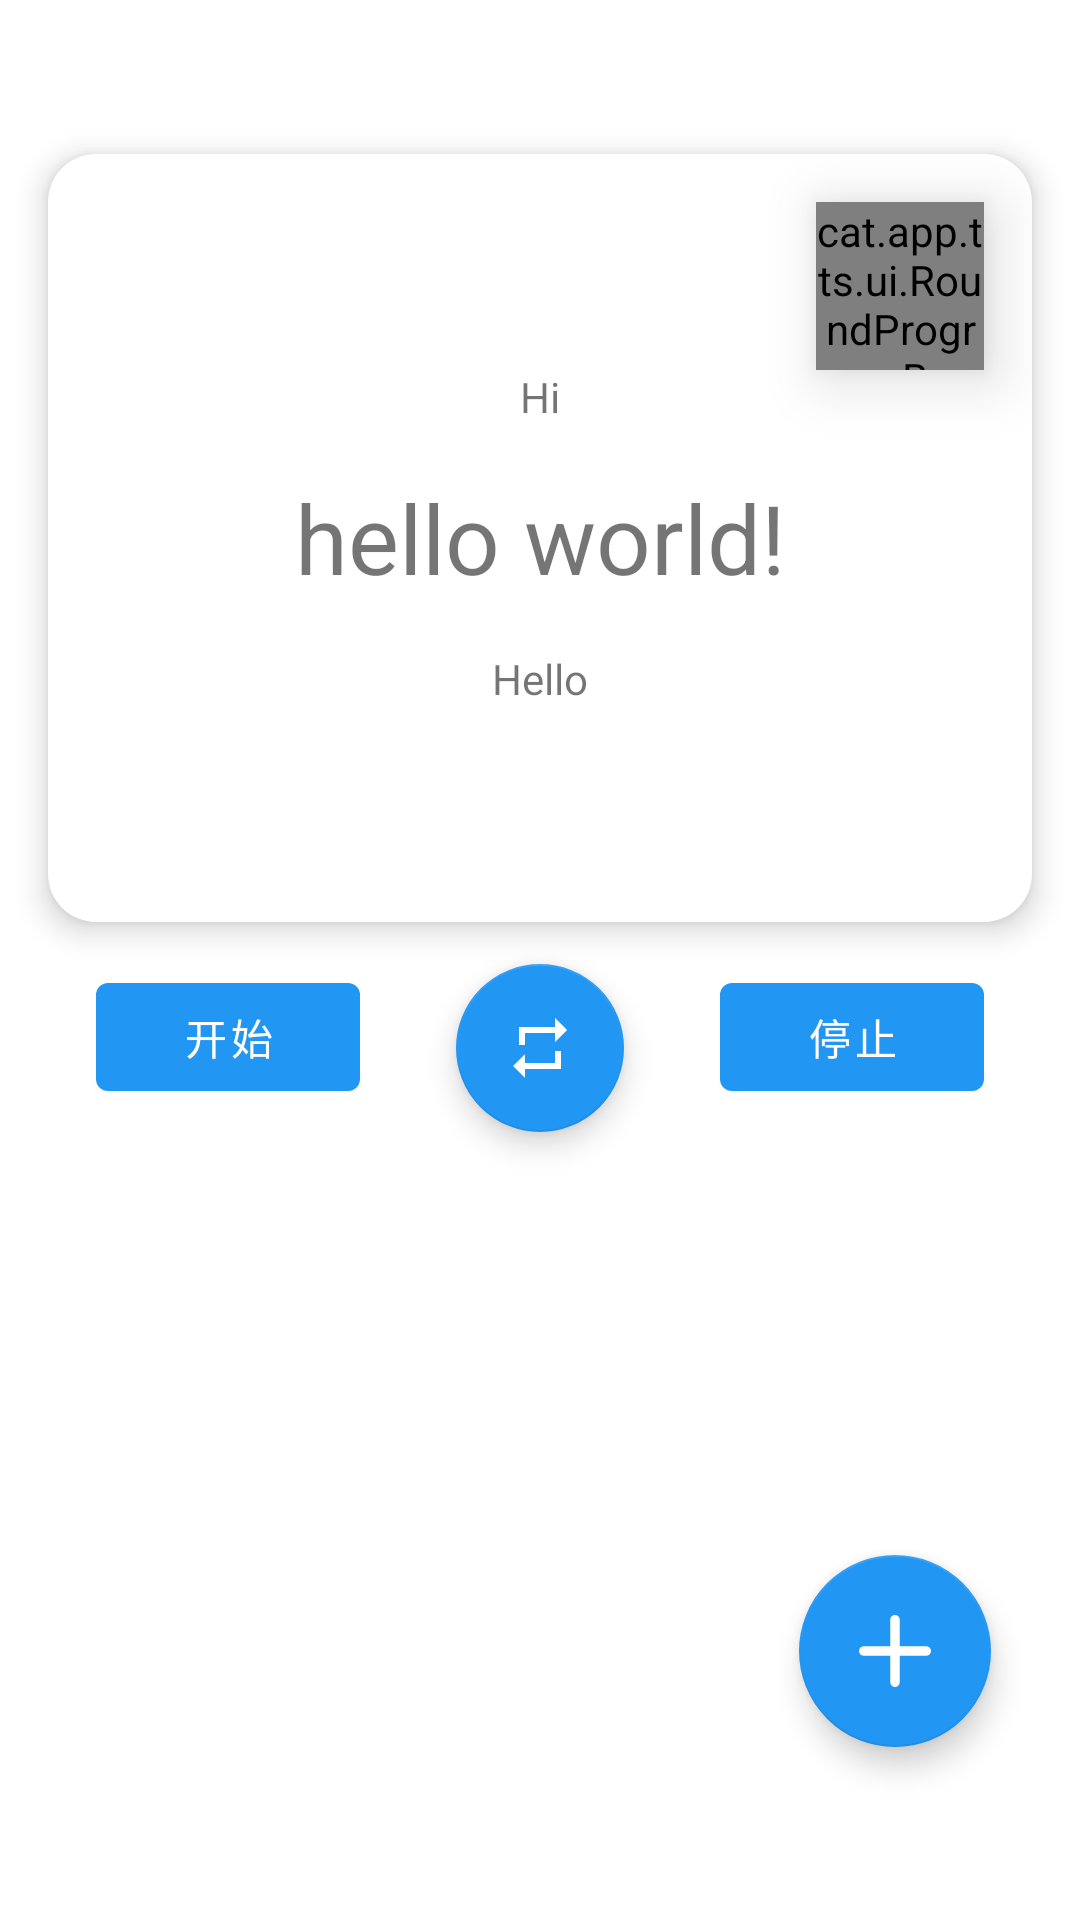

Named icons in this screenshot (1080 x 1920) and their centers, (x,y):
Repeat: (540,1048)
